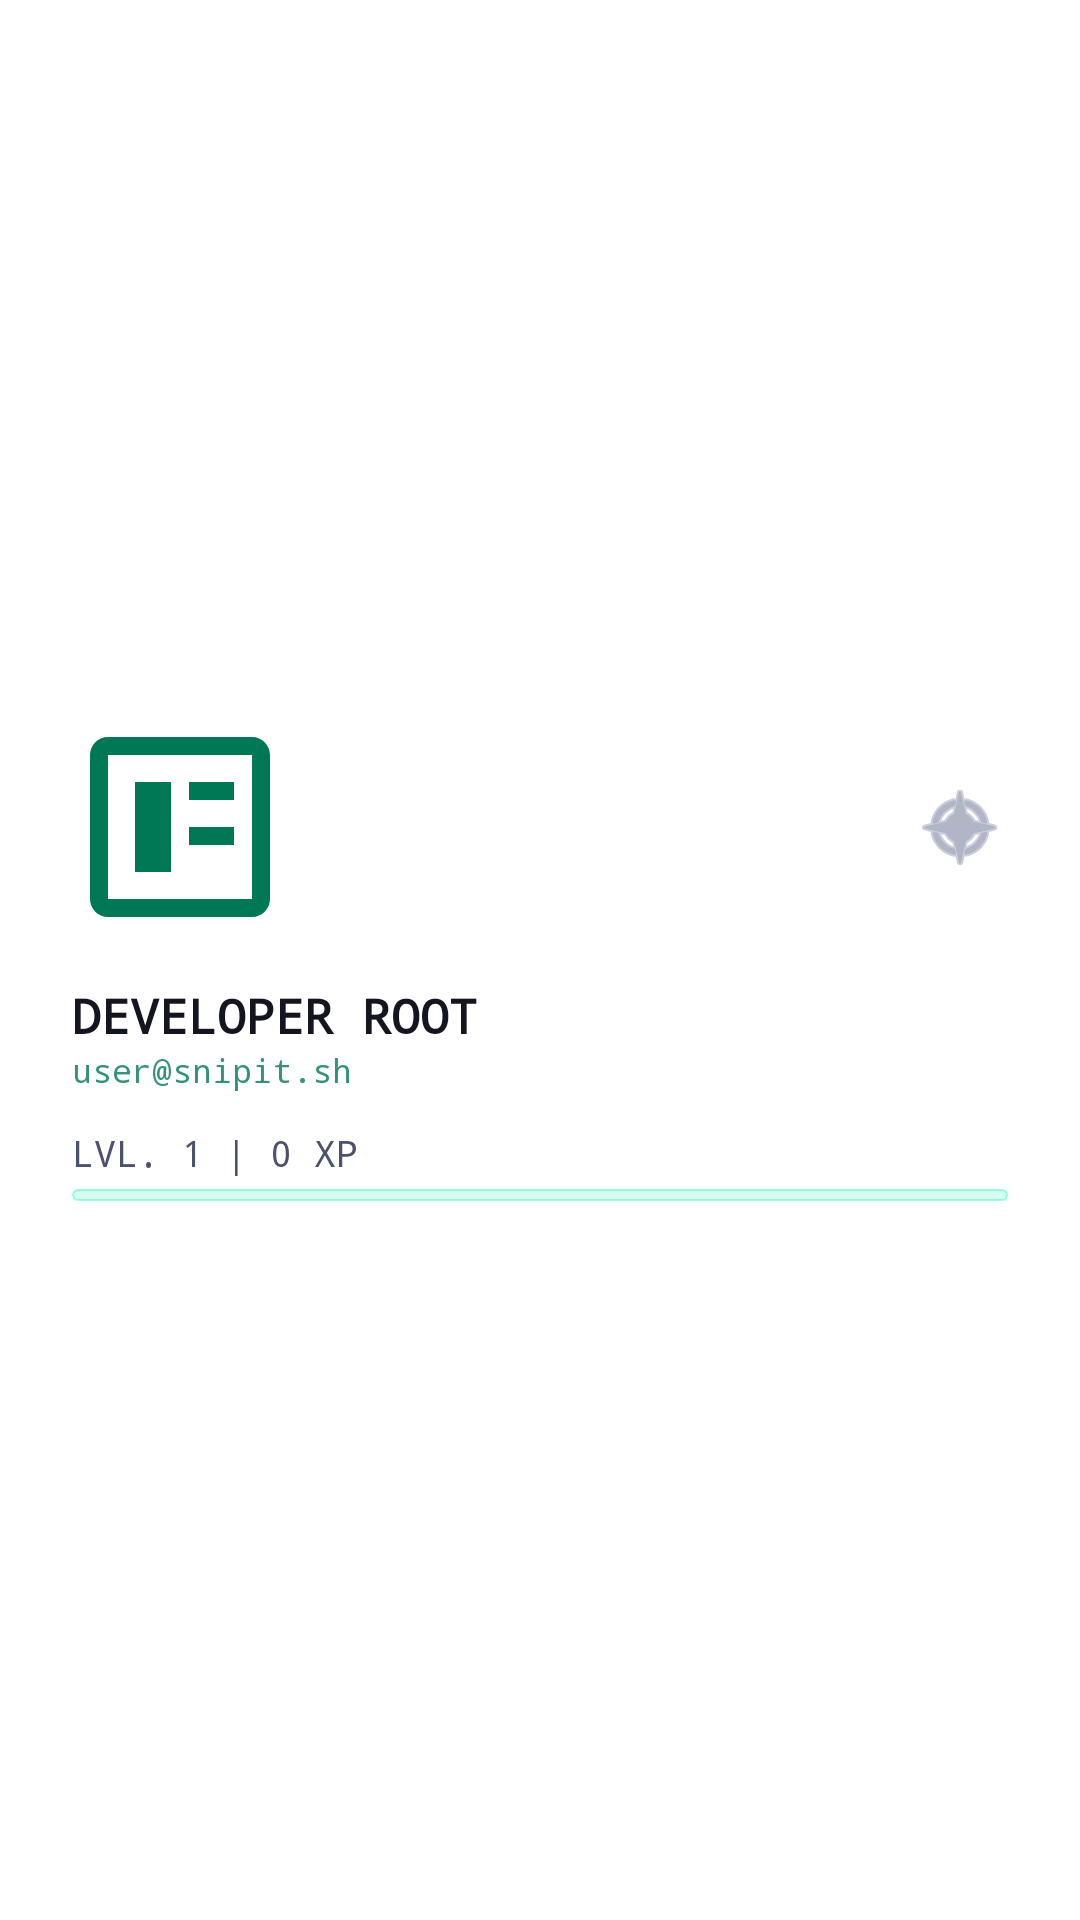

Named icons in this screenshot (1080*1920) and their bounding boxes, bbox=[x1, y1, x2, y2]:
compass: bbox=[922, 790, 997, 865]
